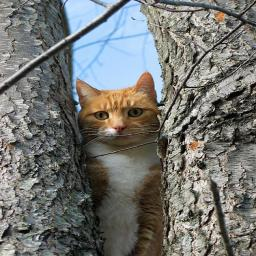catnose: (112, 124, 126, 133)
